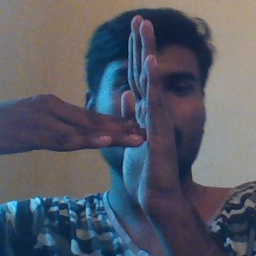Z: (42, 14, 181, 204)
